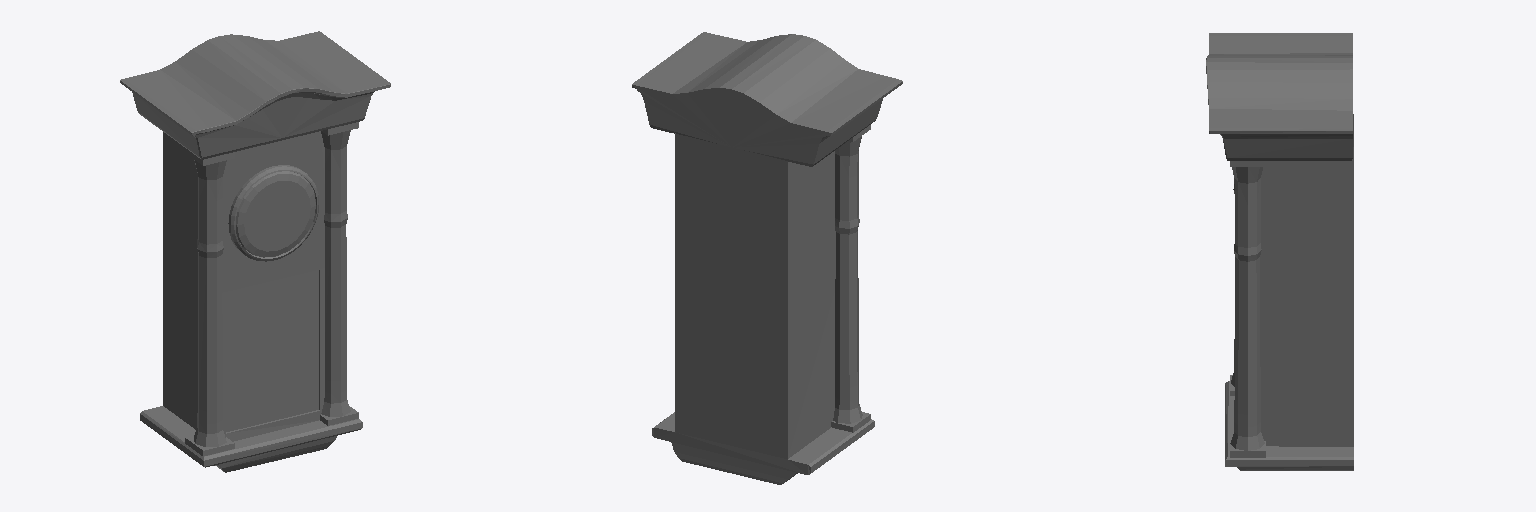
File: Clock.obj
3 renders of one model, left to right at view 1: azimuth 30°, elevation 25°; view 2: azimuth 150°, elevation 25°; view 3: azimuth 270°, elevation 25°, orthographic.
Parts seen in each view (by area): view 1: wall_clock, wall_clock_glass; view 2: wall_clock; view 3: wall_clock.
Boxes of the visible parts, <box> form: wall_clock: <box>120,31,390,472</box>; wall_clock_glass: <box>226,171,318,431</box>; wall_clock: <box>632,32,902,484</box>; wall_clock: <box>1206,33,1353,470</box>.
Bounding box in the file's own units: 1.2 × 2.21 × 0.7644.